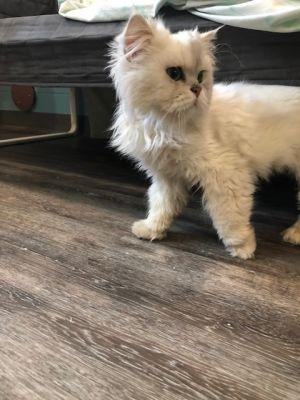persian: (103, 8, 230, 132)
